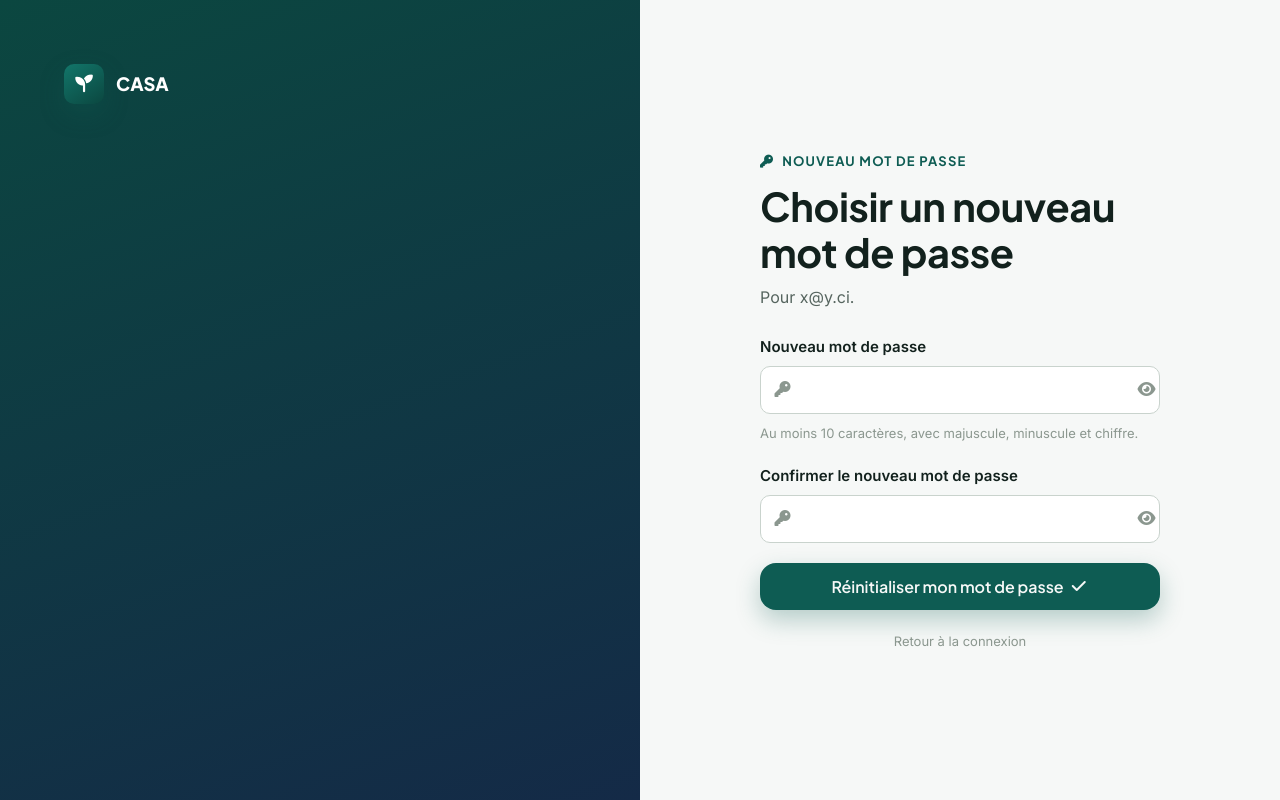
Test: NouveauMotDePasse (Lot 13, ADR-32) › le bouton œil affiche le mot de passe saisi sans envoyer de requête
Type "NouveauMdp2026" into the password field labelled "Nouveau mot de passe" at (960,390), box left=760, top=366, right=1160, bottom=414
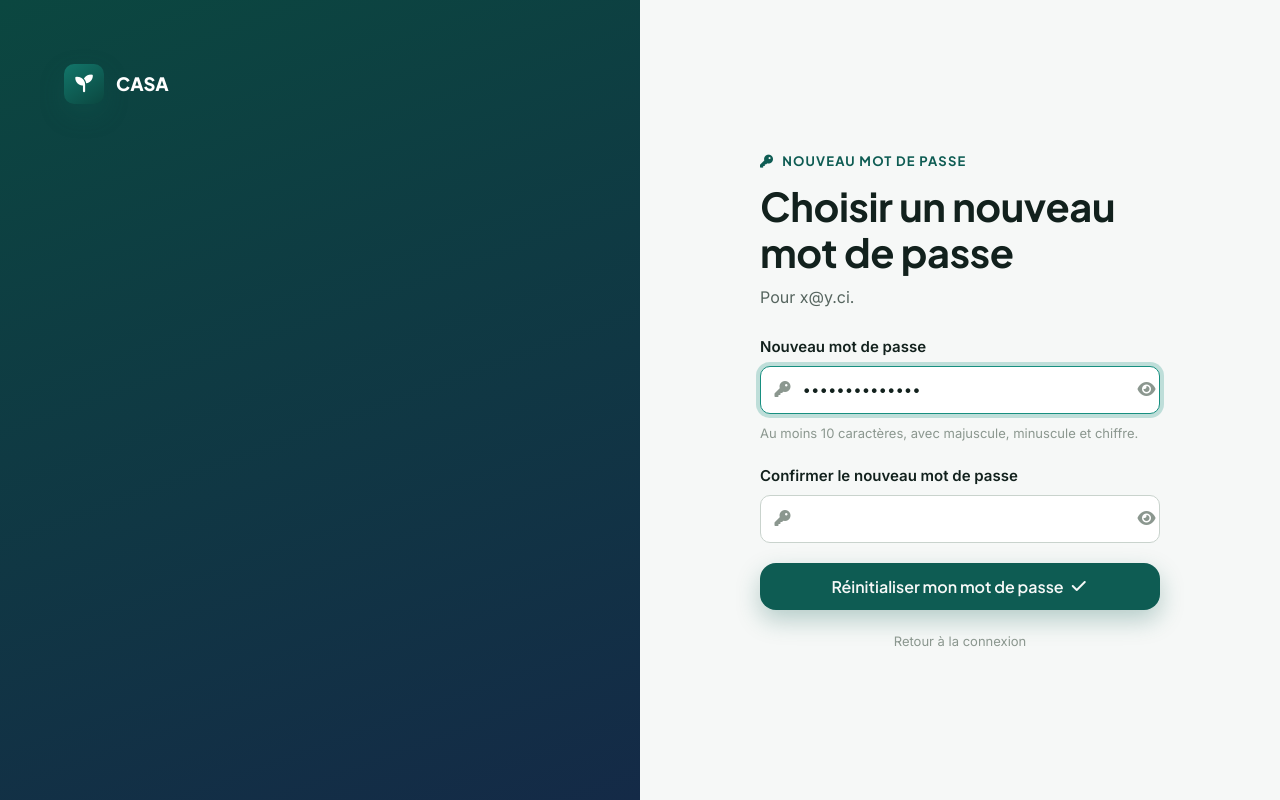
Click the 1st button named "Afficher le mot de passe" at (1138,390), box left=1123, top=376, right=1152, bottom=404
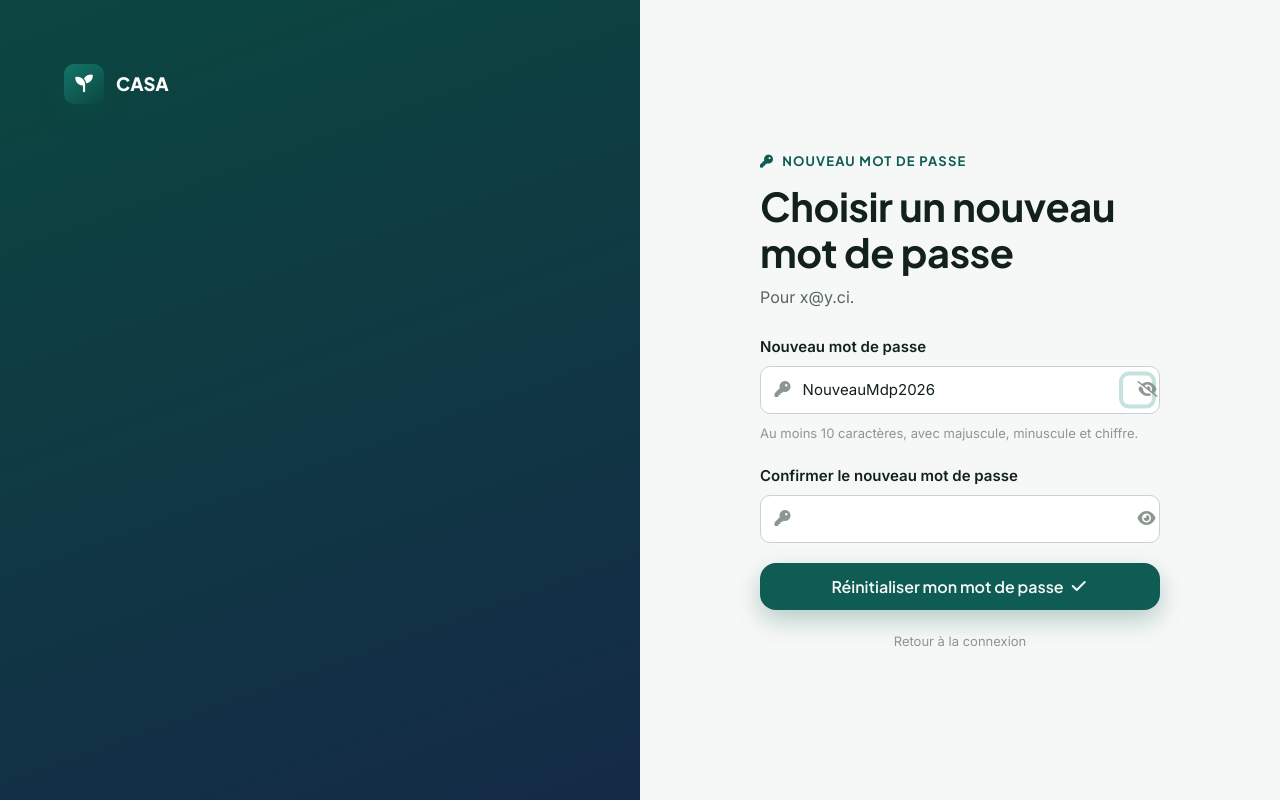
Result: the field labelled "Nouveau mot de passe" shows its text at left=760, top=366, right=1160, bottom=414
